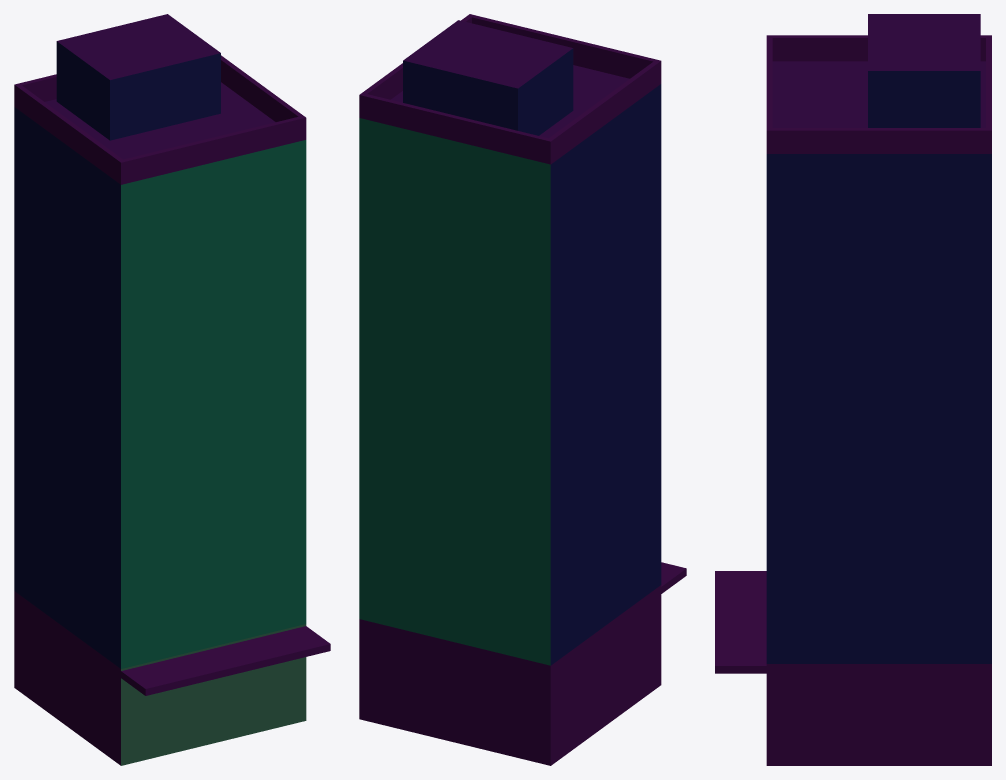
File: walkup_d.lod2.glb
3 renders of one model, left to right at view 1: azimuth 30°, elevation 25°; view 2: azimuth 150°, elevation 25°; view 3: azimuth 270°, elevation 25°, orthographic. The views are drawn at different scales.
Visible parts, largest first — view 1: walkup_d.lod2; view 2: walkup_d.lod2; view 3: walkup_d.lod2.
Part boxes in pixels (bbox=[...]): walkup_d.lod2: bbox=[14, 14, 330, 765]; walkup_d.lod2: bbox=[359, 14, 686, 765]; walkup_d.lod2: bbox=[715, 14, 991, 765].
Bounding box in the file's own units: 9.6 × 31.8 × 11.8.
